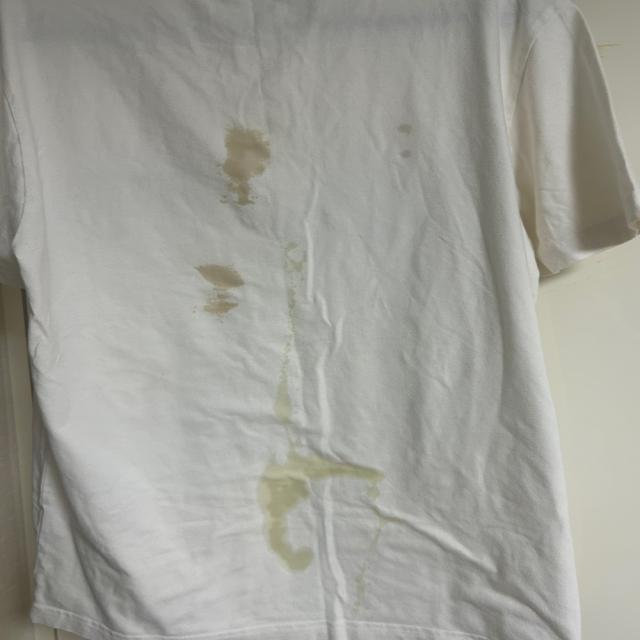stain: (260, 445, 390, 498), (244, 498, 322, 578), (222, 120, 270, 210), (192, 261, 246, 323), (270, 238, 312, 310), (276, 352, 299, 426), (398, 118, 420, 162)
